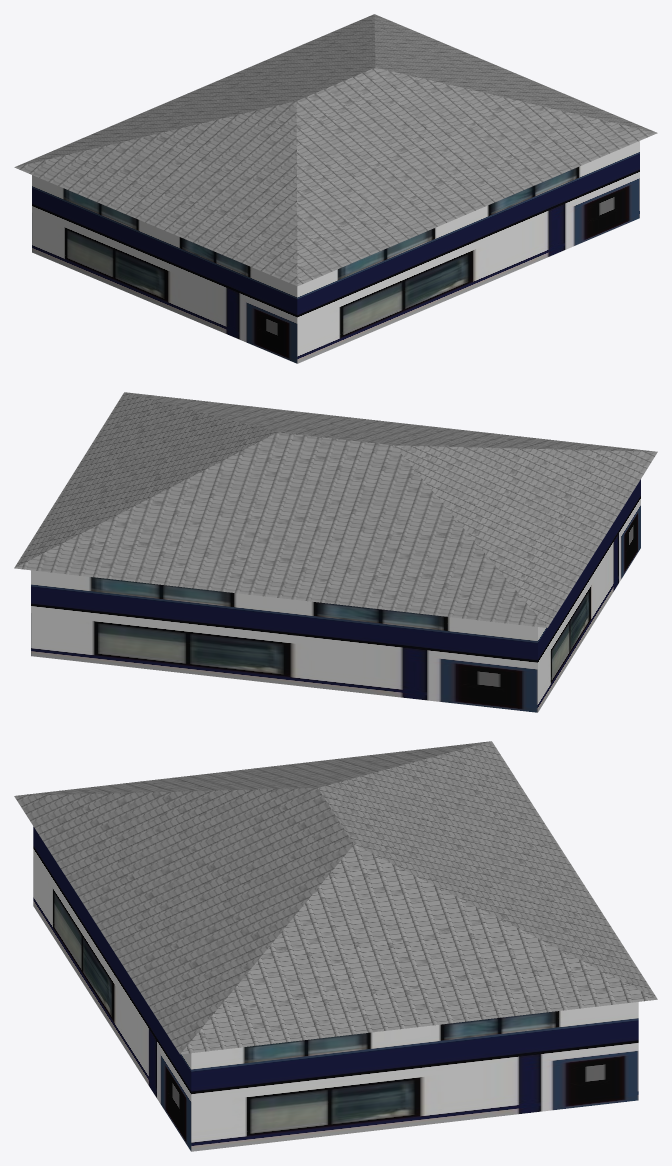
3 views of the same model, one above another, from view 1: azimuth 30°, elevation 25°; view 2: azimuth 150°, elevation 25°; view 3: azimuth 270°, elevation 25° (orthographic). The views are drawn at different scales.
Parts seen in each view (by area): view 1: CityEngineMaterial_4_m, CityEngineMaterial_2_m; view 2: CityEngineMaterial_4_m, CityEngineMaterial_2_m; view 3: CityEngineMaterial_4_m, CityEngineMaterial_2_m.
Boxes of the visible parts, bbox=[...] form: CityEngineMaterial_4_m: bbox=[14, 14, 657, 286]; CityEngineMaterial_2_m: bbox=[32, 141, 639, 363]; CityEngineMaterial_4_m: bbox=[14, 392, 657, 627]; CityEngineMaterial_2_m: bbox=[31, 479, 640, 712]; CityEngineMaterial_4_m: bbox=[14, 741, 657, 1054]; CityEngineMaterial_2_m: bbox=[33, 826, 638, 1151].
Bounding box in the file's own units: 44.01 × 12.26 × 38.23.
